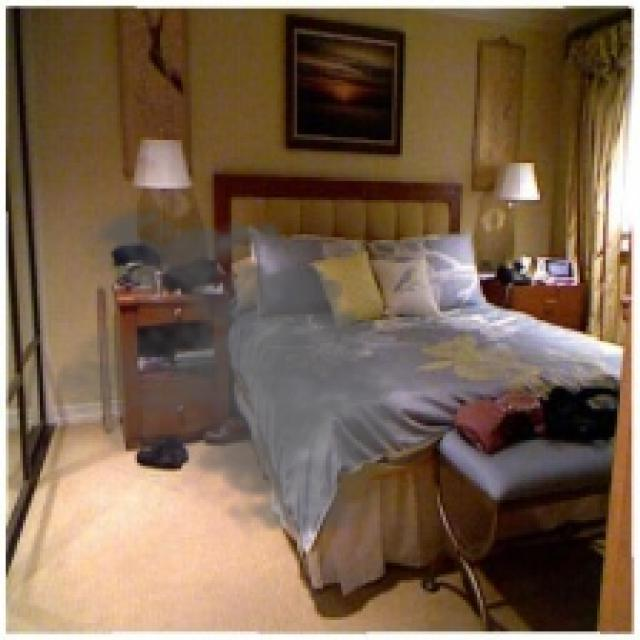Smoke: (57, 197, 429, 543)
